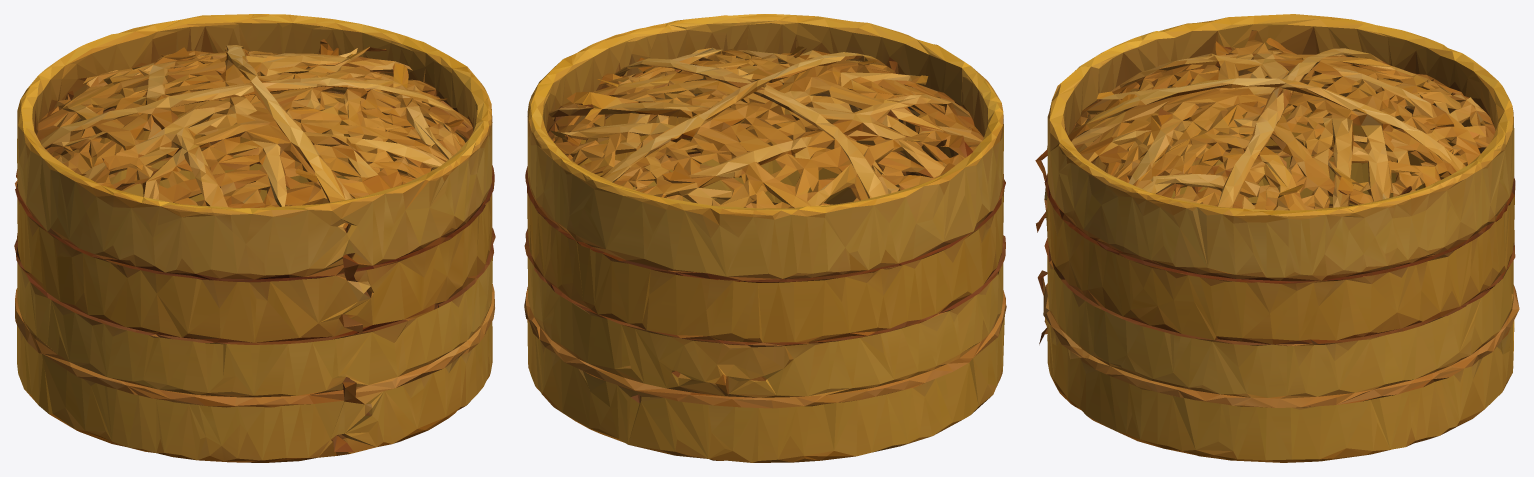
Rendered from steamer.glb.
3 renders of one model, left to right at view 1: azimuth 30°, elevation 25°; view 2: azimuth 150°, elevation 25°; view 3: azimuth 270°, elevation 25°, orthographic.
Parts seen in each view (by area): view 1: geometry_0; view 2: geometry_0; view 3: geometry_0.
Boxes of the visible parts, box(x1,y1,x2,y2) form: geometry_0: box(14, 14, 495, 462); geometry_0: box(524, 14, 1006, 462); geometry_0: box(1035, 14, 1519, 462).
Bounding box in the file's own units: 0.2591 × 0.1682 × 0.26.
1 material, 1 textured.
